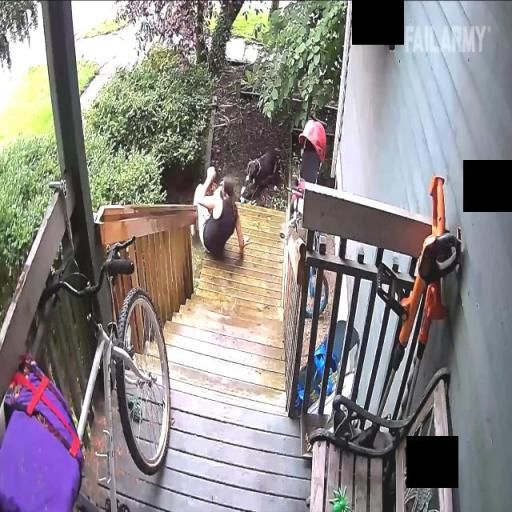Fall: (192, 165, 247, 269)
